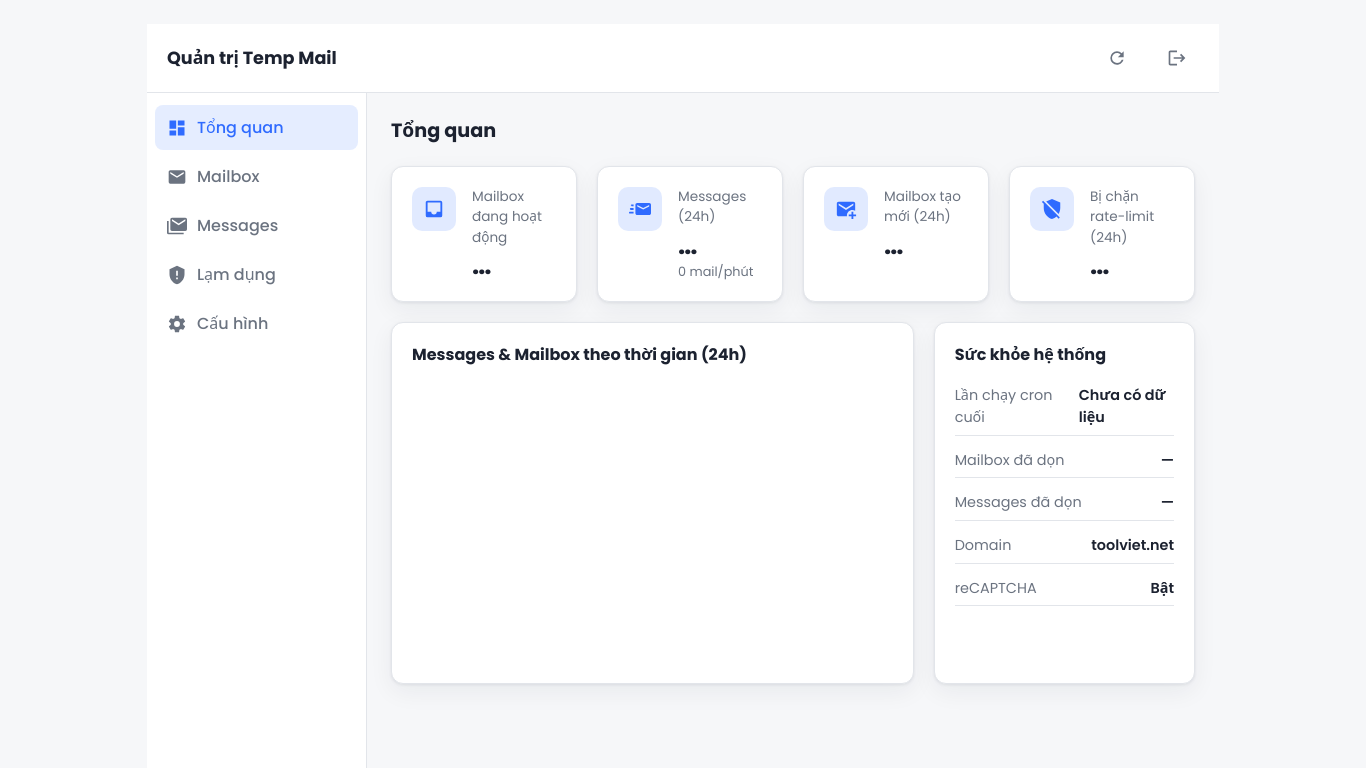
Test: AdminApp › switches the active view when a nav item is clicked
Expected: the heading "Tổng quan" is shown, top-left (391, 117), bottom-right (496, 144)
Click the button with class "admin-nav__item" showing "Mailbox".
click(256, 176)  # box top-left (155, 154), bottom-right (358, 199)
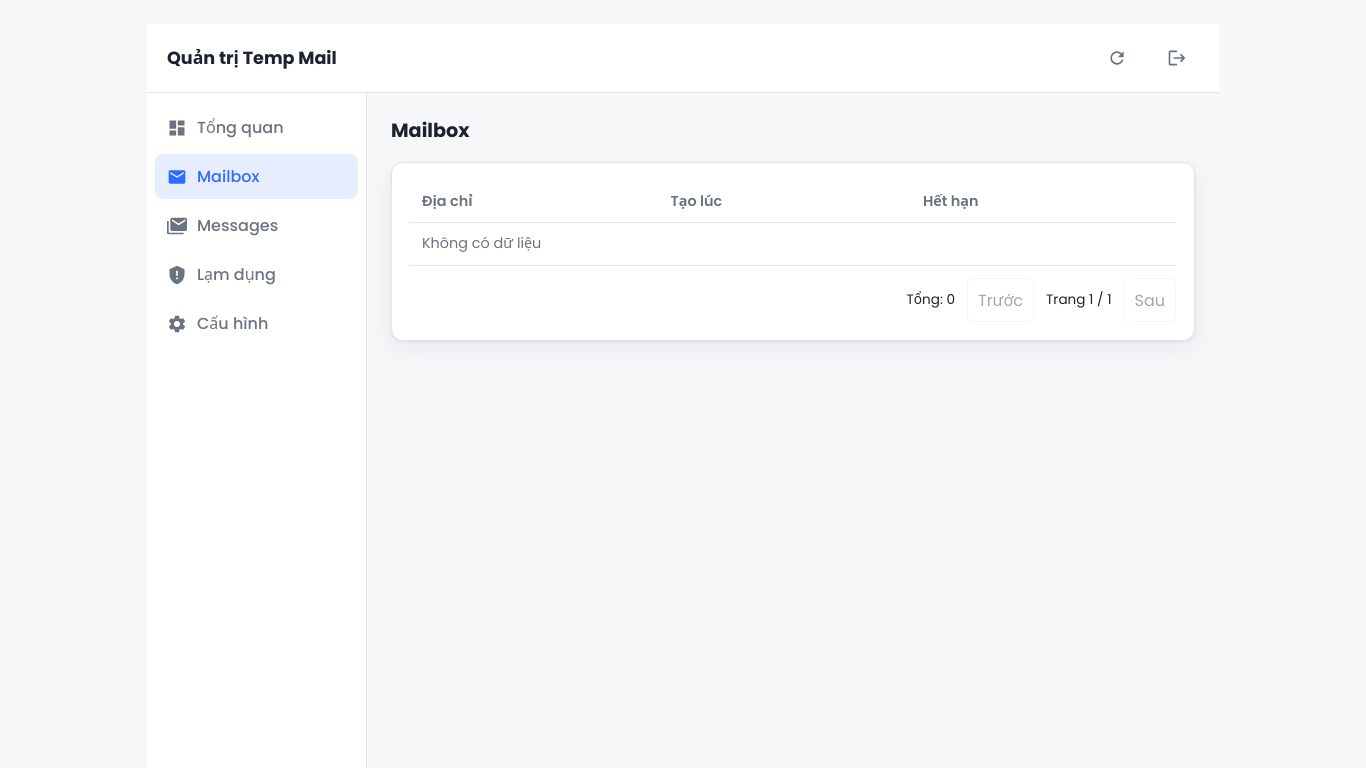
Expected: the heading "Mailbox" is shown, top-left (391, 117), bottom-right (470, 144)
